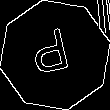P_S: (31, 26, 79, 84)
